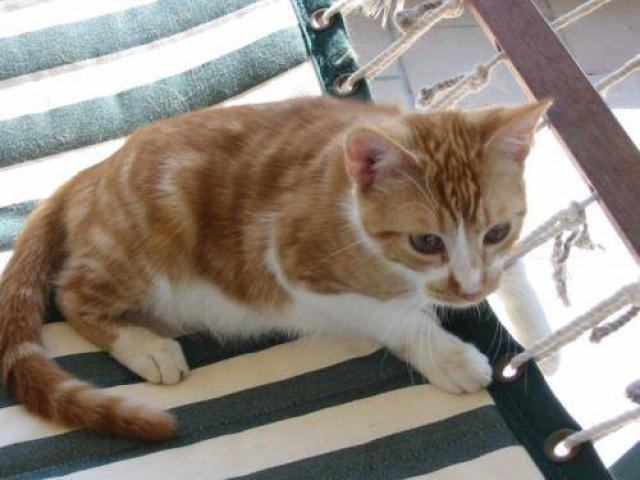cat: (6, 78, 550, 435)
